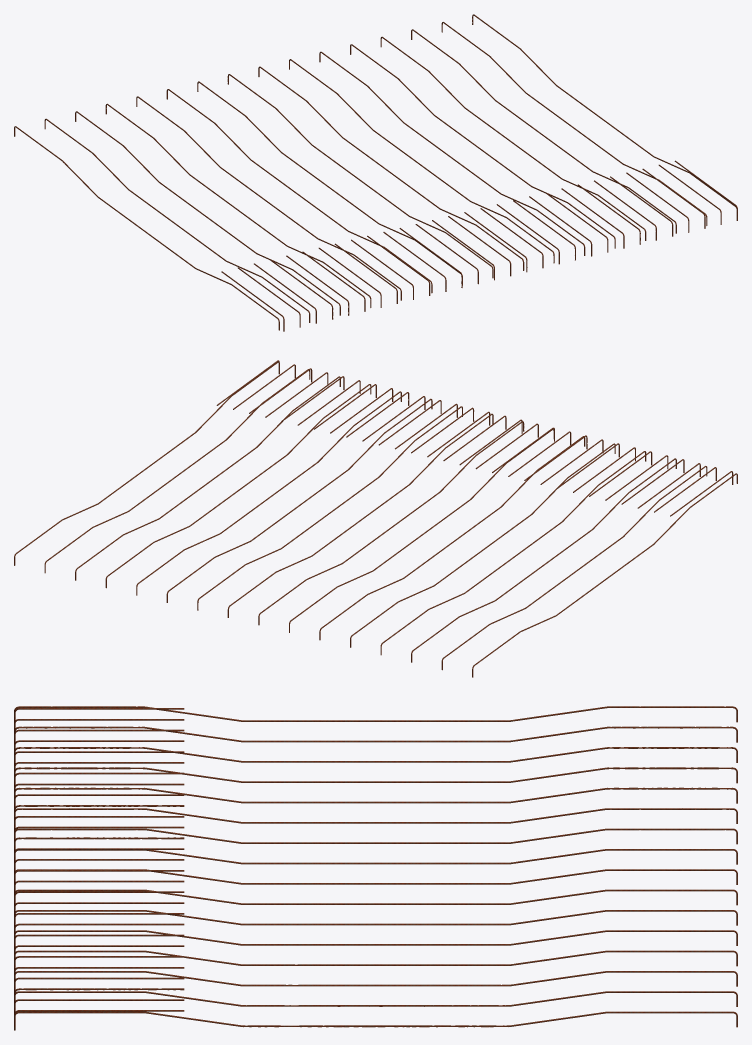
The picture shows the model from 3 angles, top to bottom: view 1: azimuth 30°, elevation 25°; view 2: azimuth 150°, elevation 25°; view 3: azimuth 270°, elevation 25°; orthographic projection. The views are drawn at different scales.
Parts seen in each view (by area): view 1: Rebar Bar H10 : Shape Rebar Shape 5 [397089]_[319274]001, Rebar Bar H10 [397760]_[319274]001; view 2: Rebar Bar H10 : Shape Rebar Shape 5 [397089]_[319274]001, Rebar Bar H10 [397760]_[319274]001; view 3: Rebar Bar H10 : Shape Rebar Shape 5 [397089]_[319274]001, Rebar Bar H10 [397760]_[319274]001.
Part boxes in pixels (left/top/right/bottom): Rebar Bar H10 : Shape Rebar Shape 5 [397089]_[319274]001: left=14, top=14, right=737, bottom=330; Rebar Bar H10 [397760]_[319274]001: left=221, top=160, right=737, bottom=331; Rebar Bar H10 : Shape Rebar Shape 5 [397089]_[319274]001: left=14, top=361, right=737, bottom=677; Rebar Bar H10 [397760]_[319274]001: left=216, top=360, right=733, bottom=516; Rebar Bar H10 : Shape Rebar Shape 5 [397089]_[319274]001: left=14, top=706, right=737, bottom=1027; Rebar Bar H10 [397760]_[319274]001: left=14, top=708, right=184, bottom=1030.
Bounding box in the file's own units: 4.25 × 0.13 × 4.25.
1 material, 1 textured.
